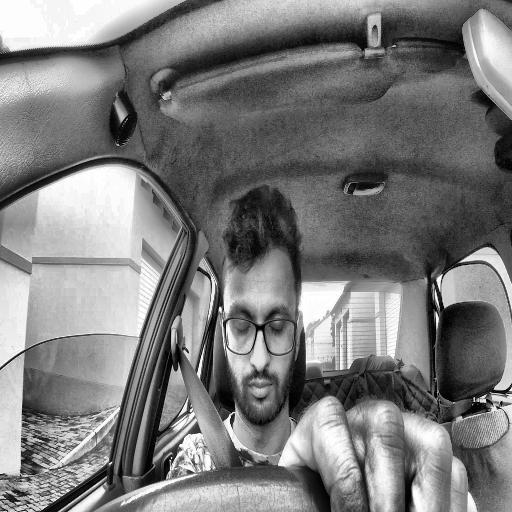drowsy: (218, 186, 304, 426)
